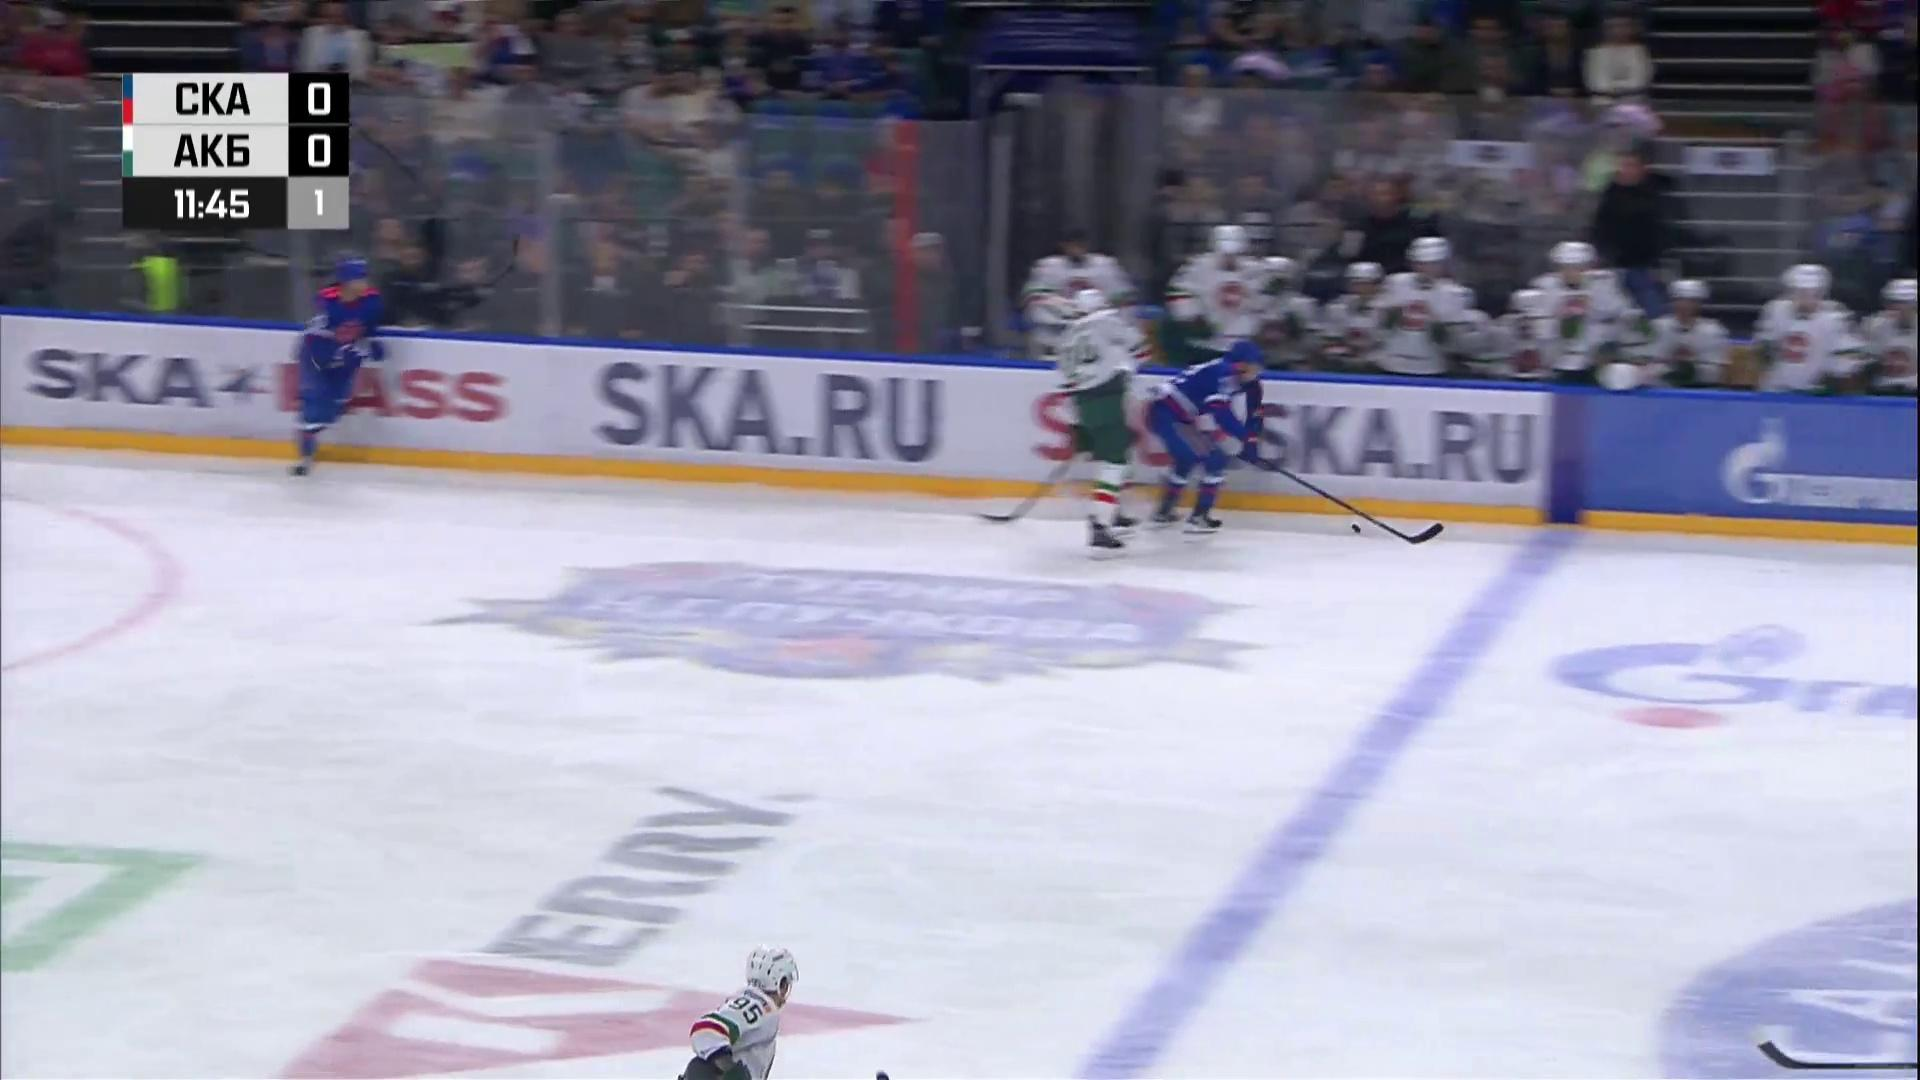ball: (1352, 524, 1362, 534)
